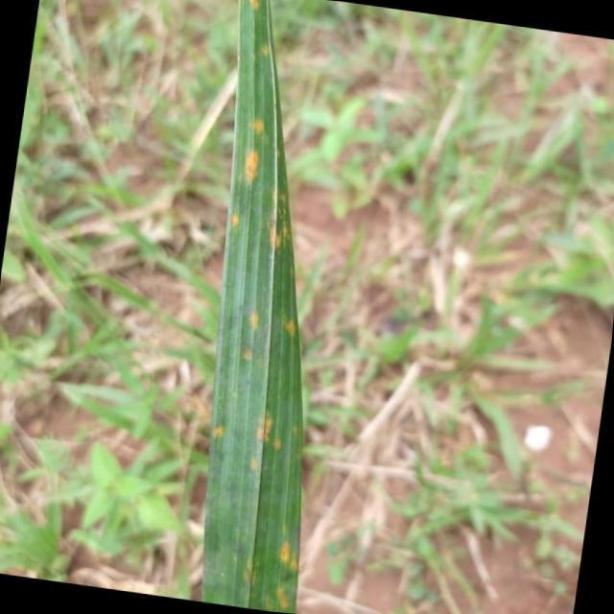Kalium: (201, 0, 304, 614)
